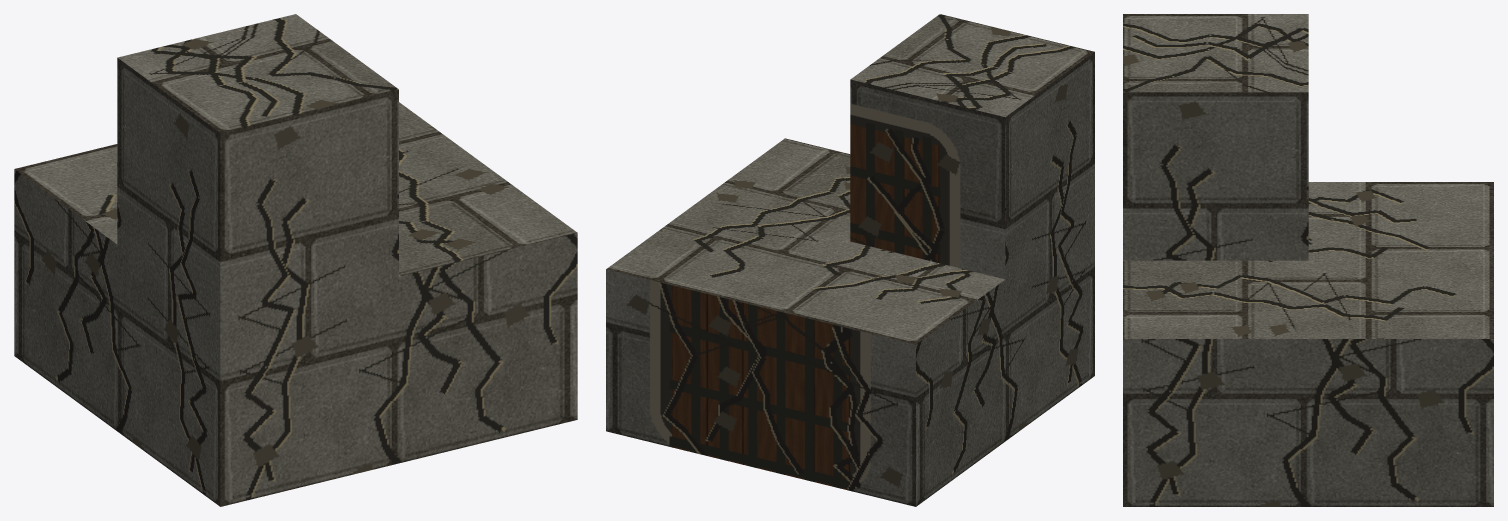
File: gate_z3.glb
The picture shows the model from 3 angles, left to right: view 1: azimuth 30°, elevation 25°; view 2: azimuth 150°, elevation 25°; view 3: azimuth 270°, elevation 25°; orthographic projection. The views are drawn at different scales.
Visible parts, largest first — view 1: gate_z3; view 2: gate_z3; view 3: gate_z3.
Part boxes in pixels (x1,y1,x2,y2): gate_z3: (14,14,577,506); gate_z3: (606,14,1094,506); gate_z3: (1123,14,1493,506).
Size of the model in its own units: 1 by 1 by 1.
1 material, 1 textured.
